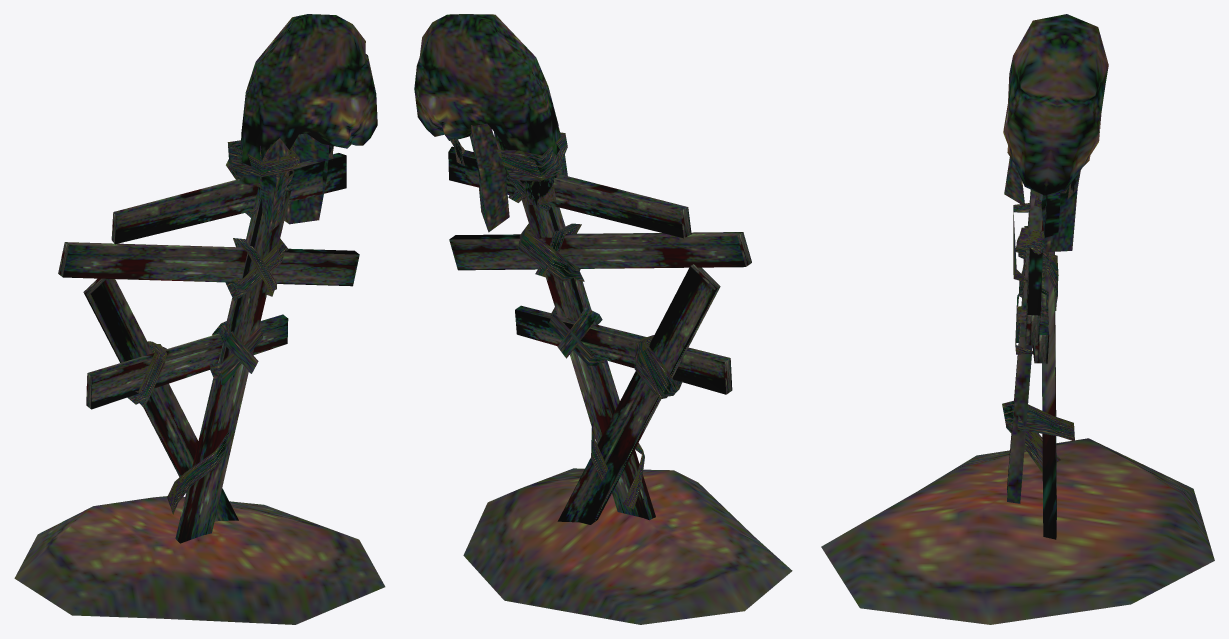
Rendered from ps2_save-icons_siren.glb.
The picture shows the model from 3 angles, left to right: view 1: azimuth 30°, elevation 25°; view 2: azimuth 150°, elevation 25°; view 3: azimuth 270°, elevation 25°; orthographic projection. The views are drawn at different scales.
Visible parts, largest first — view 1: siren.ico; view 2: siren.ico; view 3: siren.ico.
Part boxes in pixels (x1,y1,x2,y2): siren.ico: (14,14,385,624); siren.ico: (414,14,792,624); siren.ico: (821,14,1214,624).
Size of the model in its own units: 3.37 by 4.82 by 2.87.
Materials: 1 (1 with a texture image).
